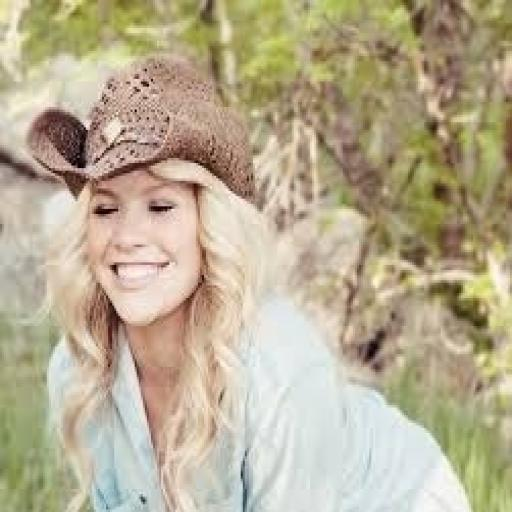laughing: (14, 46, 484, 509)
